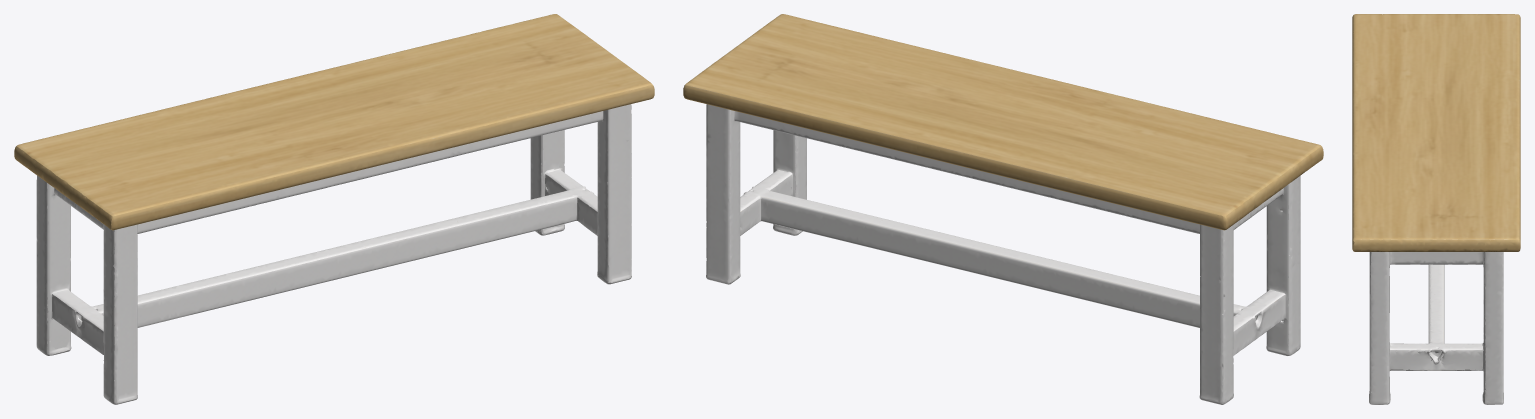
File: item_740d2efe.glb
3 views of the same model, side by side, from view 1: azimuth 30°, elevation 25°; view 2: azimuth 150°, elevation 25°; view 3: azimuth 270°, elevation 25° (orthographic). The views are drawn at different scales.
Visible parts, largest first — view 1: world; view 2: world; view 3: world.
Boxes of the visible parts, left/top/right/bottom form: world: left=14, top=14, right=654, bottom=404; world: left=683, top=14, right=1323, bottom=404; world: left=1352, top=14, right=1520, bottom=404.
Size of the model in its own units: 1.2 by 0.4229 by 0.3766.
1 material, 1 textured.
